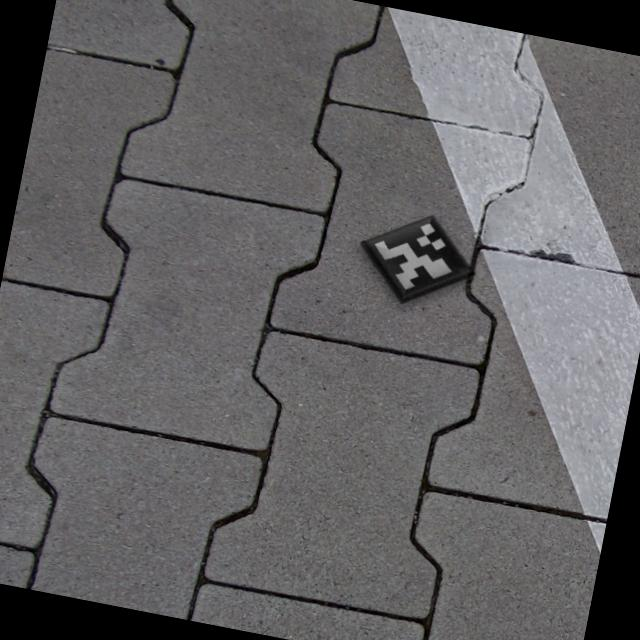marker: (340, 190, 495, 330)
